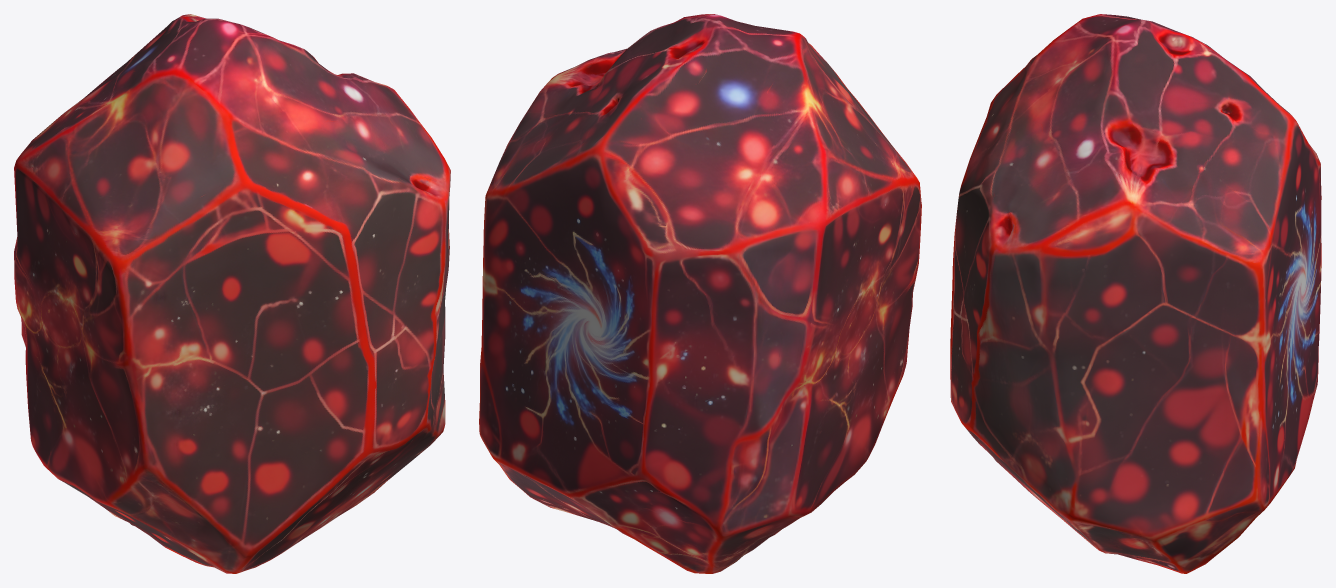
Rendered from Meshy_AI_Crimson_Galaxy_Crysta_0403051910_texture.fbx.
The picture shows the model from 3 angles, left to right: view 1: azimuth 30°, elevation 25°; view 2: azimuth 150°, elevation 25°; view 3: azimuth 270°, elevation 25°; orthographic projection. The views are drawn at different scales.
Visible parts, largest first — view 1: Mesh_0; view 2: Mesh_0; view 3: Mesh_0.
Part boxes in pixels (x1,y1,x2,y2): Mesh_0: [14, 14, 450, 573]; Mesh_0: [479, 14, 921, 573]; Mesh_0: [950, 14, 1321, 573].
Size of the model in its own units: 144 by 200 by 137.
1 material, 1 textured.
